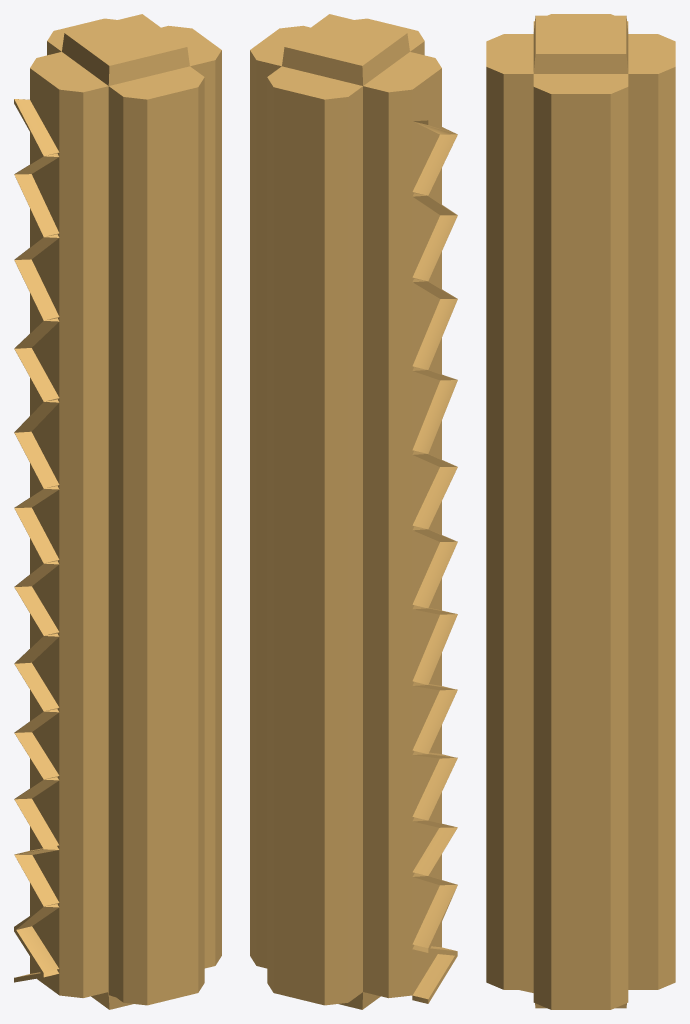
Rendered from antike Säulen.fbx.
The picture shows the model from 3 angles, left to right: view 1: azimuth 30°, elevation 25°; view 2: azimuth 150°, elevation 25°; view 3: azimuth 270°, elevation 25°; orthographic projection.
Visible parts, largest first — view 1: Cube; view 2: Cube; view 3: Cube.
Part boxes in pixels (x1,y1,x2,y2): Cube: (14,14,221,1009); Cube: (250,14,457,1009); Cube: (486,14,675,1009).
Bounding box in the file's own units: 439 × 2221 × 400.
